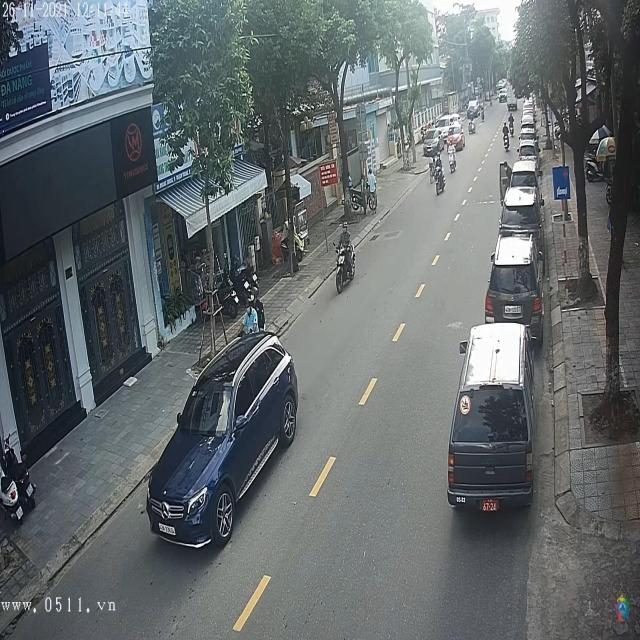car: (142, 329, 302, 554), (448, 325, 534, 512), (485, 234, 542, 329), (501, 171, 542, 231), (517, 142, 538, 164)
motorcycle: (334, 242, 358, 298), (434, 165, 447, 198)
